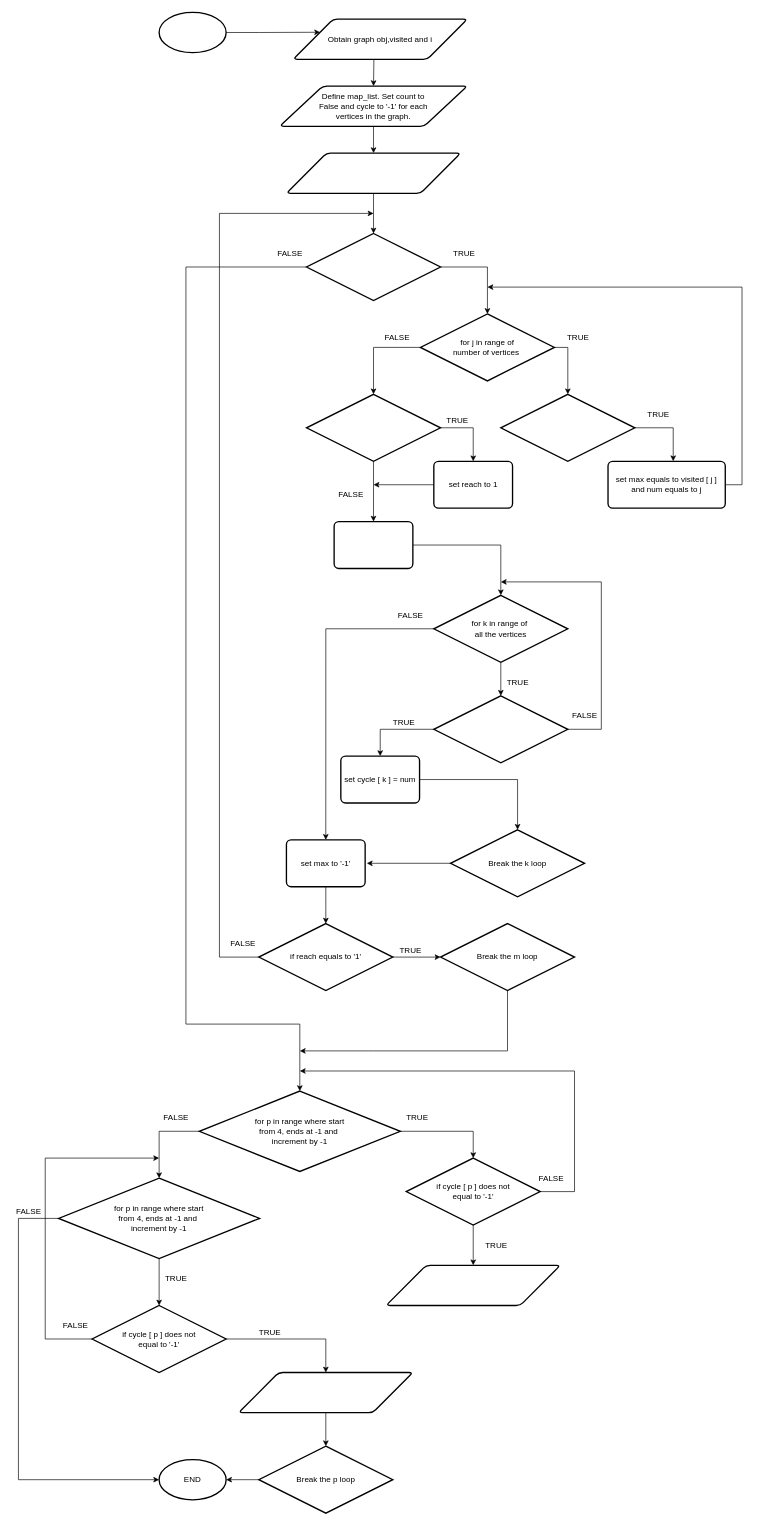
The diagram is 759 pixels wide and 1525 high, and some of its shapes have lost their labels. Each missing label, with the box of its shape:
BEGIN: (158, 11, 226, 53)
for m in range of number of vertices: (306, 232, 441, 301)
if cycle [ k ] equals to '-1': (433, 695, 568, 763)
if num equals to i: (306, 393, 441, 462)
if visited [ j ] >= max and count [ j ] == False: (500, 393, 635, 462)
print map_list [ cycle [ p ] ] , with arrow: (385, 1264, 561, 1306)
print map_list of the first head vertex of the cycle: (238, 1371, 413, 1413)
set count [ num ] to True: (333, 521, 413, 569)
Set reach, max and num to 0: (285, 152, 461, 194)
